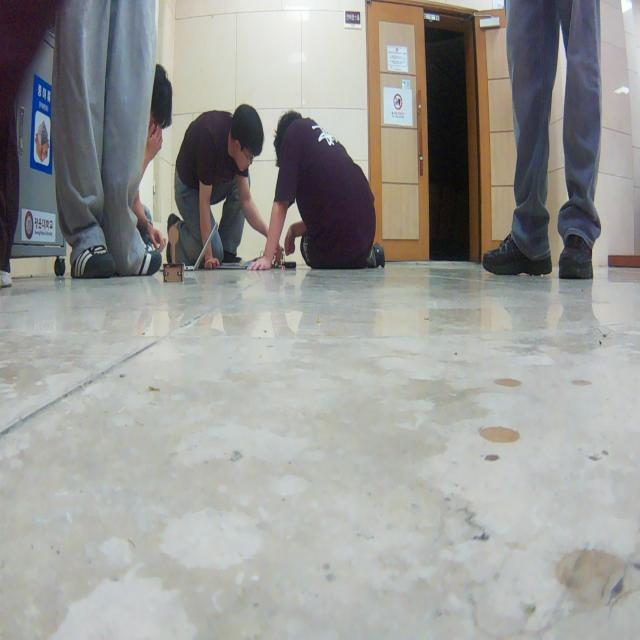target: (163, 224, 185, 284)
